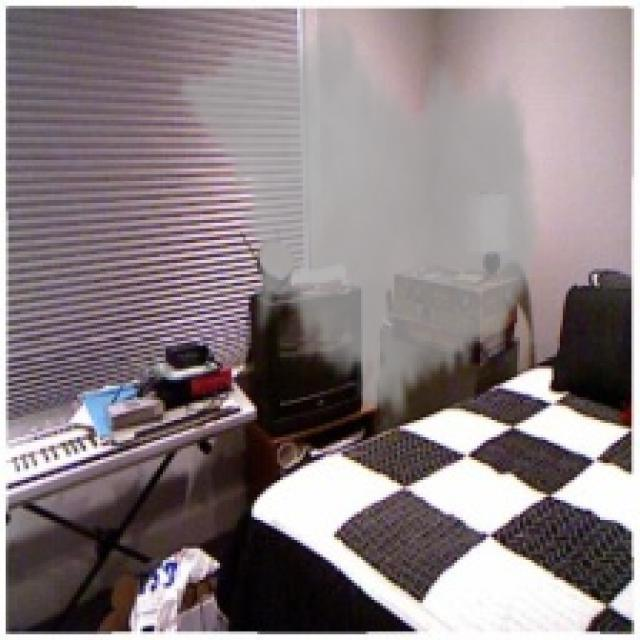Smoke: (174, 3, 546, 426)
